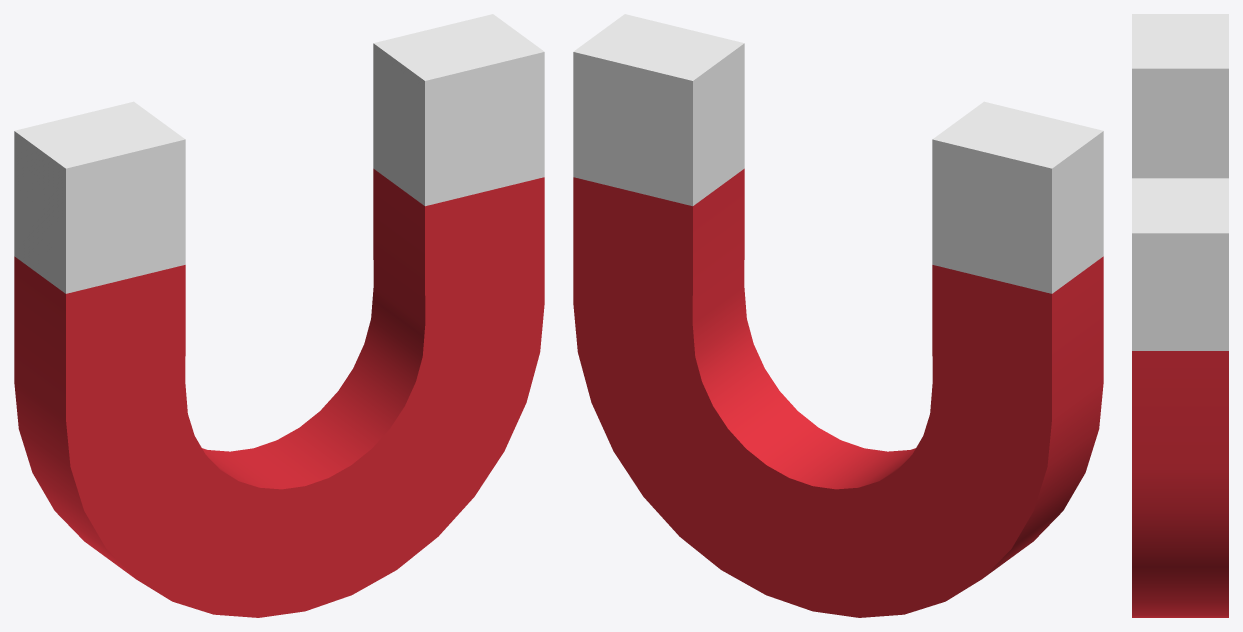
Rendered from Magnet.fbx.
3 views of the same model, side by side, from view 1: azimuth 30°, elevation 25°; view 2: azimuth 150°, elevation 25°; view 3: azimuth 270°, elevation 25° (orthographic). The views are drawn at different scales.
Parts seen in each view (by area): view 1: Circle; view 2: Circle; view 3: Circle.
Boxes of the visible parts, x1=… form: Circle: x1=14, y1=14, x2=544, y2=617; Circle: x1=573, y1=14, x2=1103, y2=617; Circle: x1=1132, y1=14, x2=1228, y2=617.
Bounding box in the file's own units: 200 × 200 × 37.38.
